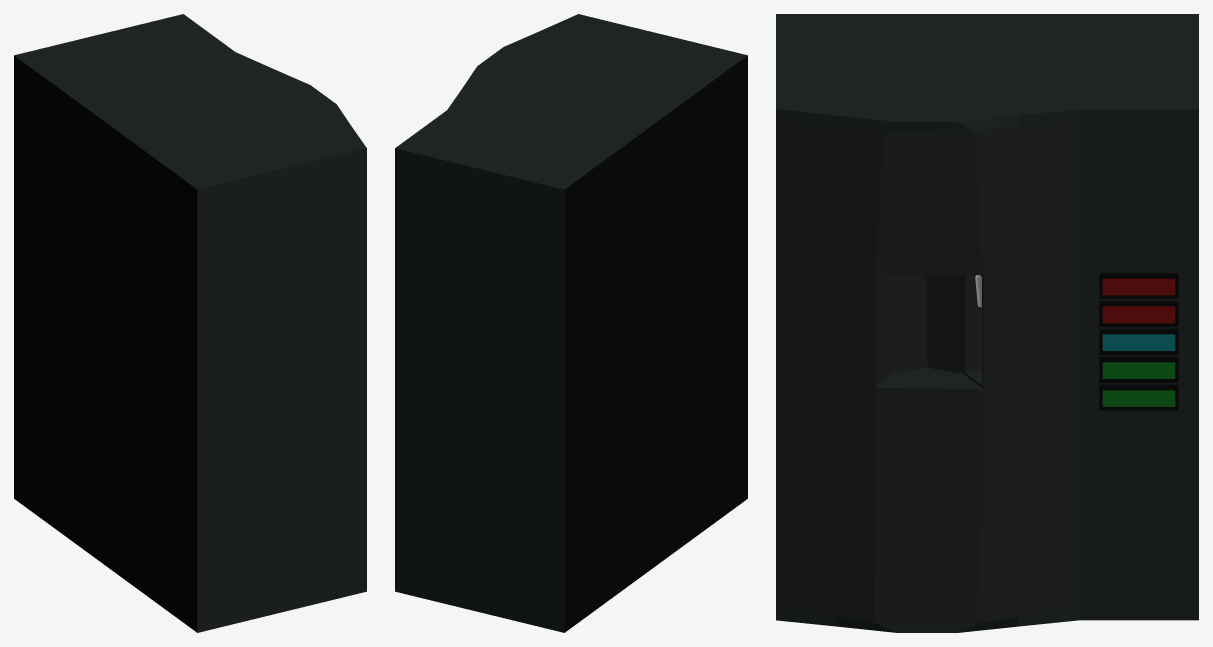
The model's file is VendingMachine-Coffee_01.fbx.
3 renders of one model, left to right at view 1: azimuth 30°, elevation 25°; view 2: azimuth 150°, elevation 25°; view 3: azimuth 270°, elevation 25°, orthographic. The views are drawn at different scales.
Visible parts, largest first — view 1: CoffeeMachine_01; view 2: CoffeeMachine_01; view 3: CoffeeMachine_01.
Boxes of the visible parts, box(x1,y1,x2,y2) form: CoffeeMachine_01: box(14, 14, 366, 632); CoffeeMachine_01: box(395, 14, 747, 632); CoffeeMachine_01: box(776, 14, 1198, 632).
Size of the model in its own units: 0.9057 by 2 by 1.5.
